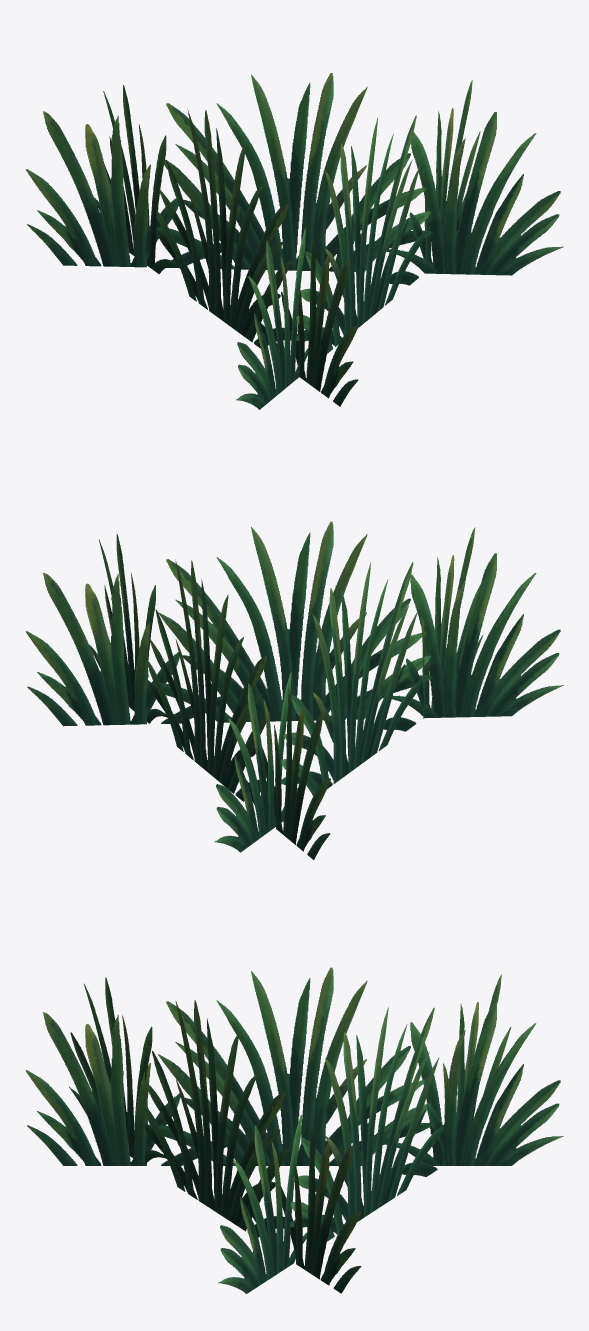
Rendered from sm_grass_clump.dae.
3 views of the same model, one above another, from view 1: azimuth 30°, elevation 25°; view 2: azimuth 150°, elevation 25°; view 3: azimuth 270°, elevation 25° (orthographic).
Parts seen in each view (by area): view 1: Grass5; view 2: Grass5; view 3: Grass5.
Boxes of the visible parts, bbox=[...] form: Grass5: bbox=[25, 73, 563, 409]; Grass5: bbox=[25, 521, 563, 859]; Grass5: bbox=[25, 967, 563, 1293].
Size of the model in its own units: 1.44 by 0.6751 by 1.67.
